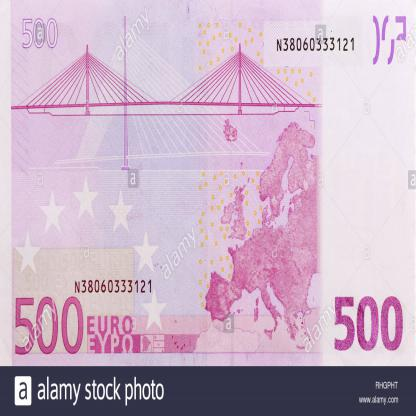euro_banknote: (2, 2, 416, 366)
